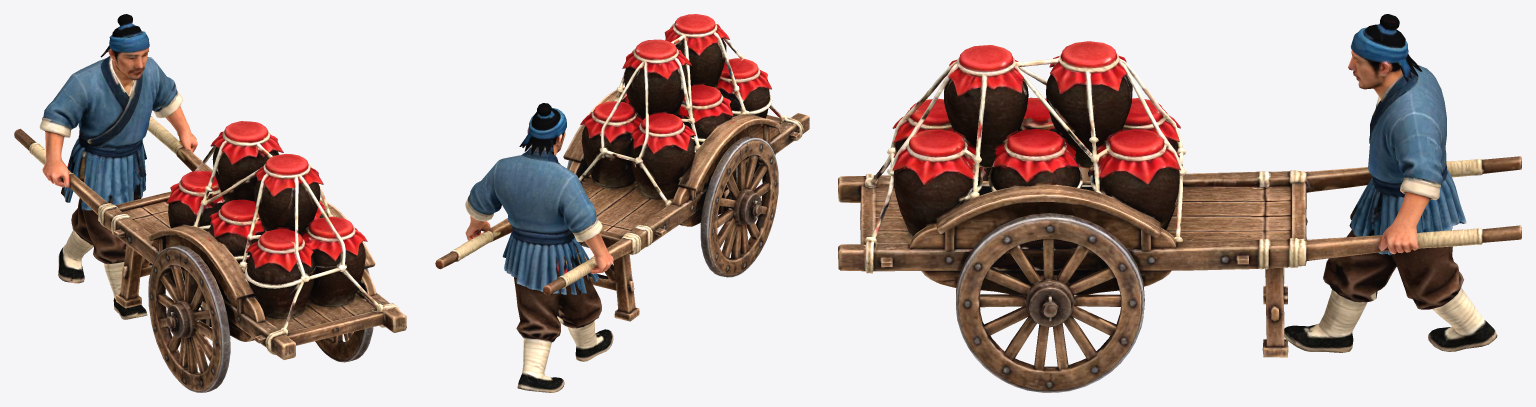
Rendered from qm_barrow.glb.
3 renders of one model, left to right at view 1: azimuth 30°, elevation 25°; view 2: azimuth 150°, elevation 25°; view 3: azimuth 270°, elevation 25°, orthographic. The views are drawn at different scales.
Visible parts, largest first — view 1: qm_barrow; view 2: qm_barrow; view 3: qm_barrow.
Boxes of the visible parts, <box> form: qm_barrow: <box>14,14,406,392</box>; qm_barrow: <box>435,14,809,392</box>; qm_barrow: <box>838,14,1521,392</box>.
Bounding box in the file's own units: 1.2 × 1.7 × 3.02.
1 material, 1 textured.
